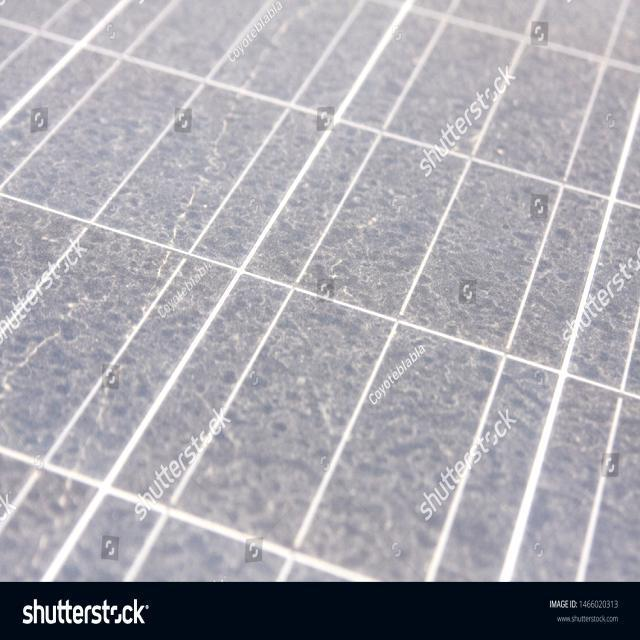soiled: (3, 1, 640, 583)
